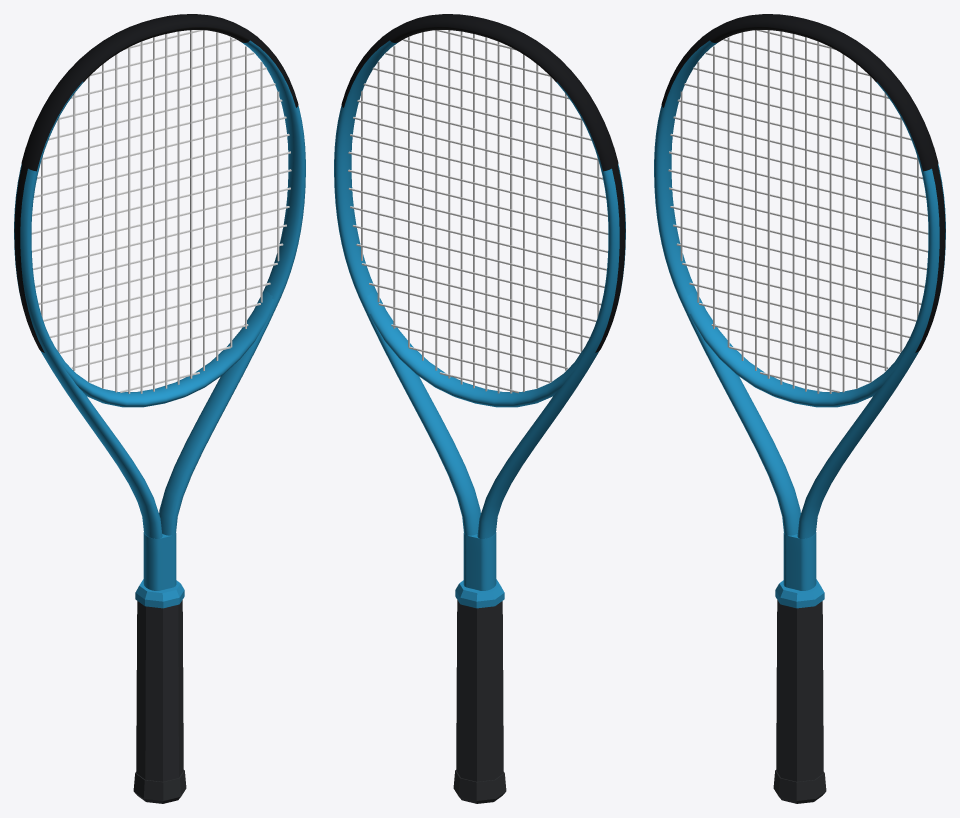
Rendered from wilson-ultra-pro-18x20-v4.glb.
3 renders of one model, left to right at view 1: azimuth 30°, elevation 25°; view 2: azimuth 150°, elevation 25°; view 3: azimuth 330°, elevation 25°, orthographic.
Parts seen in each view (by area): view 1: frame, strings_mains, strings_crosses, grip, bumper, butt_cap, grommets, collar; view 2: frame, strings_mains, strings_crosses, grip, bumper, butt_cap, grommets, collar; view 3: frame, strings_mains, strings_crosses, grip, bumper, butt_cap, grommets, collar.
Part boxes in pixels (x1,y1,x2,y2): frame: (14,27,305,590); strings_mains: (41,30,279,393); strings_crosses: (31,30,291,392); grip: (136,600,183,781); bumper: (21,14,298,171); butt_cap: (133,770,186,803); grommets: (14,164,44,352); collar: (135,579,184,608); frame: (334,27,625,590); strings_mains: (361,30,599,393); strings_crosses: (348,30,608,393); grip: (456,600,503,781); bumper: (341,14,618,171); butt_cap: (453,770,506,803); grommets: (595,164,625,352); collar: (455,579,504,608); frame: (654,27,945,590); strings_mains: (680,30,918,393); strings_crosses: (668,30,928,392); grip: (776,600,823,781); bumper: (661,14,938,171); butt_cap: (773,770,826,803); grommets: (915,164,945,352); collar: (775,579,824,608).
Size of the model in its own units: 0.2659 by 0.6861 by 0.0396.
